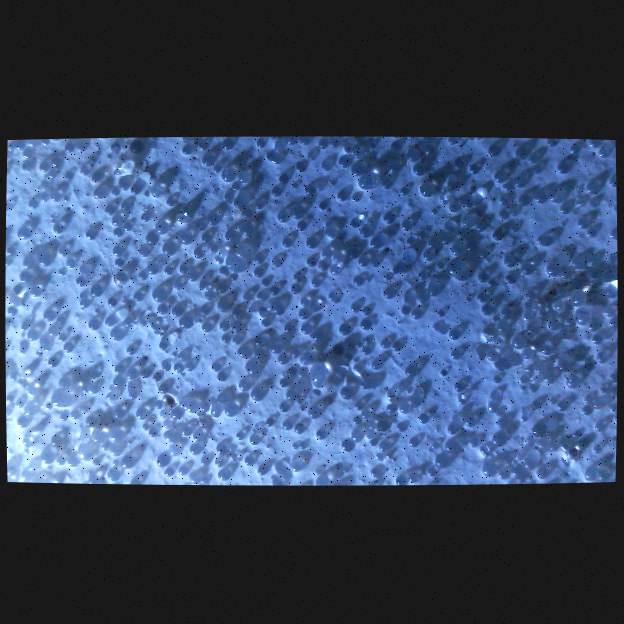GrassBeadSeg: (53, 150, 525, 485), (48, 161, 532, 445), (65, 160, 508, 467), (69, 149, 607, 399), (9, 171, 479, 446), (39, 202, 530, 463), (8, 200, 605, 408), (72, 175, 545, 437), (127, 193, 595, 454), (118, 180, 536, 461), (18, 178, 524, 400), (34, 142, 503, 363), (168, 213, 592, 457), (15, 223, 568, 408), (63, 144, 407, 432), (67, 258, 540, 466), (7, 220, 588, 387), (138, 273, 597, 481), (145, 233, 548, 469), (109, 184, 434, 476), (236, 145, 585, 414), (104, 255, 517, 481), (109, 185, 449, 454), (51, 179, 393, 446), (117, 162, 603, 345), (103, 206, 487, 434), (26, 200, 424, 419), (110, 235, 495, 457), (127, 141, 441, 412), (198, 259, 605, 466), (209, 146, 501, 414), (56, 190, 564, 342), (219, 256, 602, 454), (13, 162, 363, 372), (18, 299, 486, 456), (131, 261, 560, 428), (160, 142, 403, 428), (155, 307, 561, 474), (112, 143, 363, 410), (26, 330, 467, 478), (8, 332, 548, 449), (268, 203, 616, 383), (90, 174, 375, 393), (31, 161, 508, 290), (85, 278, 495, 424), (286, 209, 507, 476), (8, 250, 397, 400), (70, 221, 360, 419), (13, 170, 251, 406), (20, 149, 254, 389), (40, 310, 596, 411), (410, 164, 589, 468), (10, 288, 363, 441), (279, 234, 554, 430), (26, 280, 364, 439), (132, 250, 435, 420), (15, 233, 394, 368), (222, 168, 427, 417), (14, 227, 461, 336), (187, 267, 407, 485), (253, 332, 555, 485), (73, 277, 317, 466), (53, 283, 502, 384), (52, 224, 275, 427), (28, 197, 254, 394), (122, 365, 511, 479), (27, 246, 590, 324), (337, 191, 508, 446), (296, 166, 570, 320), (56, 212, 288, 388), (121, 349, 605, 432), (219, 140, 459, 305), (200, 153, 421, 332), (108, 143, 584, 226), (297, 199, 530, 365), (279, 302, 535, 451), (156, 383, 550, 479), (62, 172, 275, 347), (284, 186, 435, 421), (86, 291, 396, 400), (177, 321, 447, 438), (168, 364, 533, 449), (277, 295, 508, 428), (107, 226, 372, 341), (159, 240, 461, 340), (16, 185, 139, 427), (403, 218, 591, 376), (119, 359, 382, 469), (51, 226, 171, 467), (238, 225, 566, 312), (111, 169, 245, 381), (276, 213, 395, 451), (86, 149, 421, 233), (9, 298, 181, 455), (425, 179, 616, 314), (117, 146, 304, 283), (122, 317, 372, 418), (302, 280, 599, 365), (262, 255, 445, 387), (180, 348, 535, 416), (282, 138, 601, 213), (49, 362, 569, 407), (45, 285, 227, 411), (229, 256, 329, 485), (190, 258, 315, 441), (351, 249, 533, 367), (83, 305, 260, 426), (104, 297, 290, 412), (377, 215, 474, 432), (230, 321, 556, 384), (349, 229, 596, 312), (162, 396, 593, 442), (158, 239, 292, 386), (196, 155, 317, 316), (7, 317, 131, 474), (40, 410, 305, 472), (178, 254, 266, 437), (117, 182, 601, 215), (201, 155, 308, 301), (169, 306, 527, 349), (226, 218, 359, 330), (410, 309, 497, 478), (83, 231, 230, 331), (232, 300, 411, 381), (232, 274, 535, 321), (190, 348, 301, 476), (222, 230, 562, 271), (258, 270, 429, 351), (368, 258, 441, 447), (176, 224, 413, 282), (247, 238, 317, 434), (491, 144, 578, 301), (474, 317, 616, 411), (24, 329, 462, 359), (184, 298, 311, 400), (56, 206, 306, 257), (406, 344, 527, 447), (150, 185, 474, 223), (87, 243, 294, 298), (61, 237, 158, 353), (109, 220, 412, 257), (350, 150, 544, 201), (388, 136, 540, 201), (389, 275, 517, 351), (227, 243, 464, 282), (423, 138, 559, 205), (113, 257, 240, 325), (475, 152, 527, 318), (236, 378, 351, 452), (56, 238, 265, 278), (390, 263, 509, 333), (110, 380, 592, 397), (248, 323, 352, 401), (64, 260, 281, 296), (113, 232, 257, 284), (384, 375, 580, 413), (406, 209, 537, 265), (102, 145, 142, 326), (446, 179, 525, 265), (259, 319, 460, 350), (404, 230, 490, 302), (181, 149, 286, 207), (119, 142, 206, 211), (404, 388, 492, 455), (60, 187, 131, 270), (524, 405, 614, 470), (346, 340, 389, 476), (263, 319, 321, 419), (123, 208, 225, 260), (138, 282, 213, 352), (6, 185, 64, 275), (394, 340, 606, 364), (505, 257, 586, 319), (127, 391, 185, 477), (310, 277, 412, 325), (239, 208, 273, 345), (44, 347, 115, 412), (525, 304, 617, 354), (98, 285, 304, 307), (457, 397, 525, 463), (14, 139, 86, 201), (256, 136, 335, 190), (246, 279, 271, 445), (10, 379, 51, 480), (269, 428, 347, 481), (104, 347, 183, 399), (76, 377, 149, 430), (173, 412, 239, 469), (172, 361, 508, 372), (296, 343, 357, 403), (463, 164, 546, 206), (254, 357, 447, 375), (322, 252, 465, 276), (316, 252, 412, 286), (560, 258, 613, 315), (114, 244, 165, 302), (62, 156, 127, 201), (122, 455, 231, 481), (59, 419, 117, 466), (334, 192, 369, 268), (210, 408, 258, 463), (218, 267, 253, 342), (160, 419, 386, 430), (80, 404, 121, 463), (494, 376, 554, 415), (18, 382, 78, 417), (351, 415, 391, 459), (252, 151, 282, 209), (317, 138, 373, 167), (337, 318, 387, 348), (157, 256, 221, 274), (163, 349, 193, 376), (509, 452, 537, 477), (144, 244, 163, 274), (252, 342, 283, 359), (366, 230, 385, 249), (298, 322, 314, 335), (487, 403, 493, 411)
